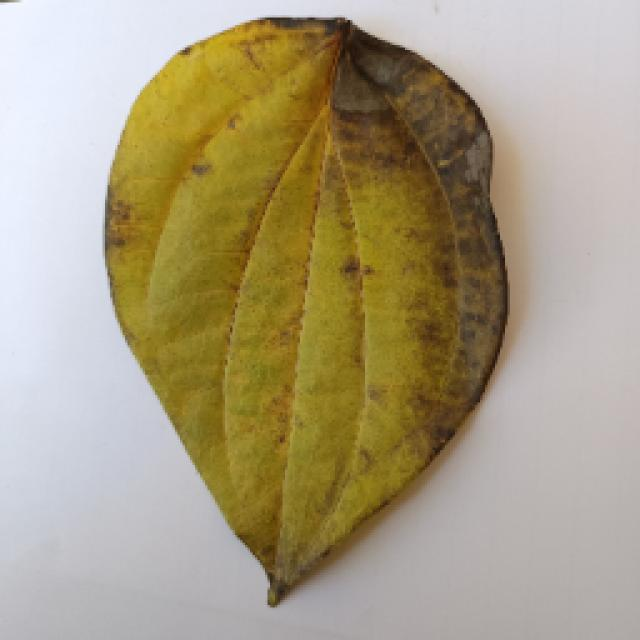slow-decline: (5, 30, 565, 615)
